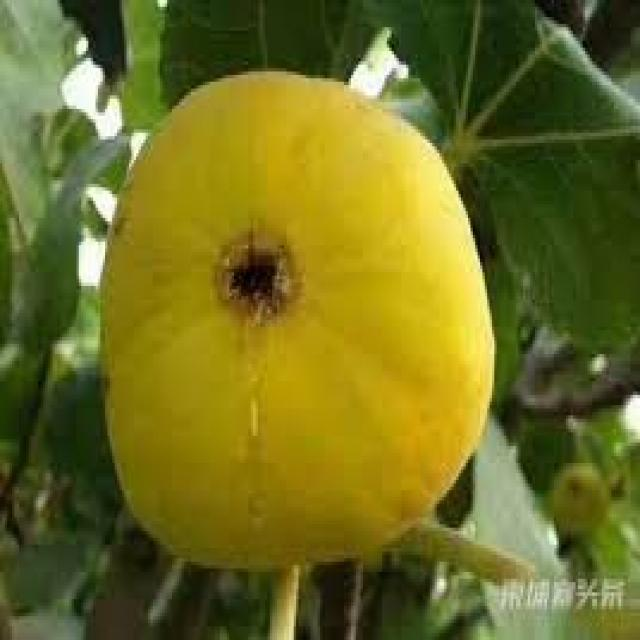organic waste: (100, 65, 492, 572)
